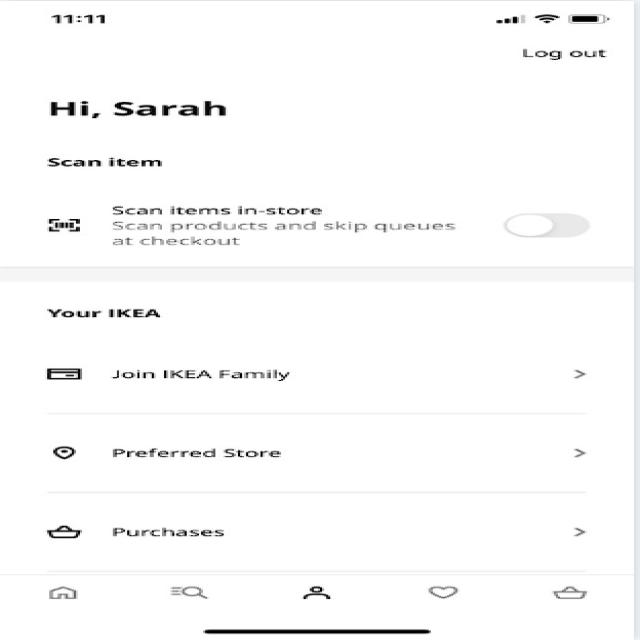icon button: (540, 574, 619, 612), (150, 576, 230, 610), (276, 577, 364, 607), (24, 577, 101, 609), (411, 580, 481, 607)
row: (12, 484, 622, 562), (9, 195, 620, 267), (15, 413, 619, 482), (15, 343, 622, 411)
text: (21, 87, 289, 122), (12, 148, 300, 176), (106, 358, 310, 390), (33, 300, 188, 328), (97, 445, 298, 466), (106, 523, 275, 545), (502, 44, 628, 66)
